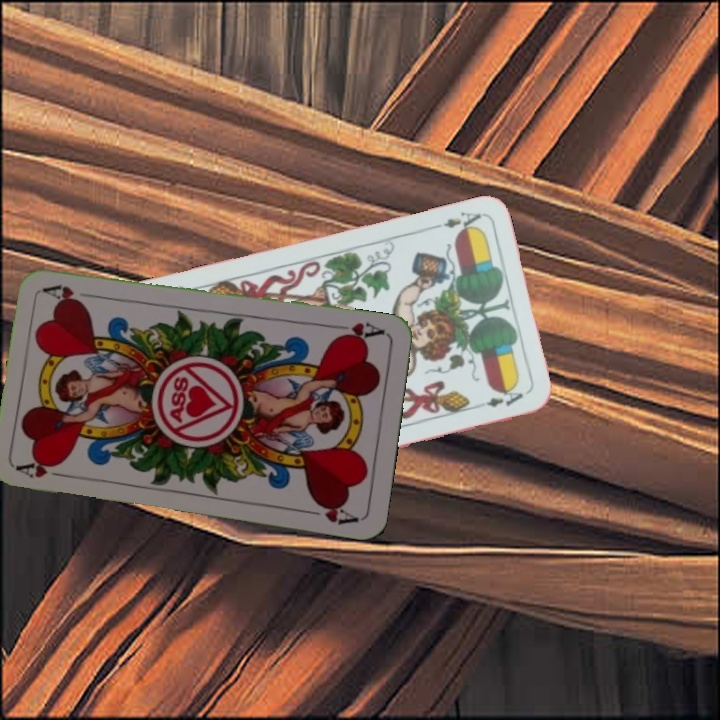EA: (426, 207, 484, 236)
HA: (15, 455, 74, 481), (330, 318, 387, 344)
